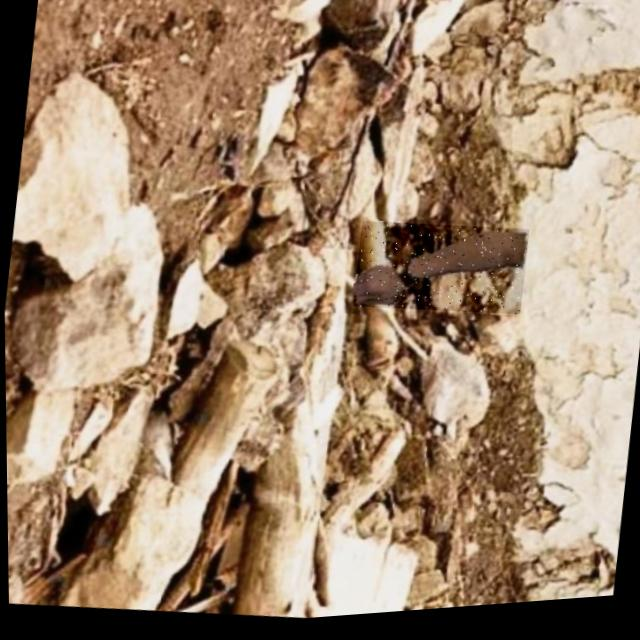Person in Rubble: (349, 217, 528, 332)
